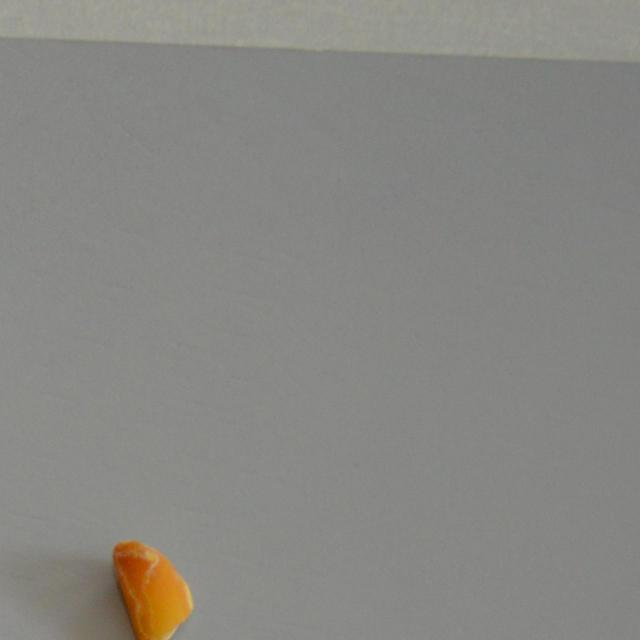dañado: (104, 536, 198, 640)
